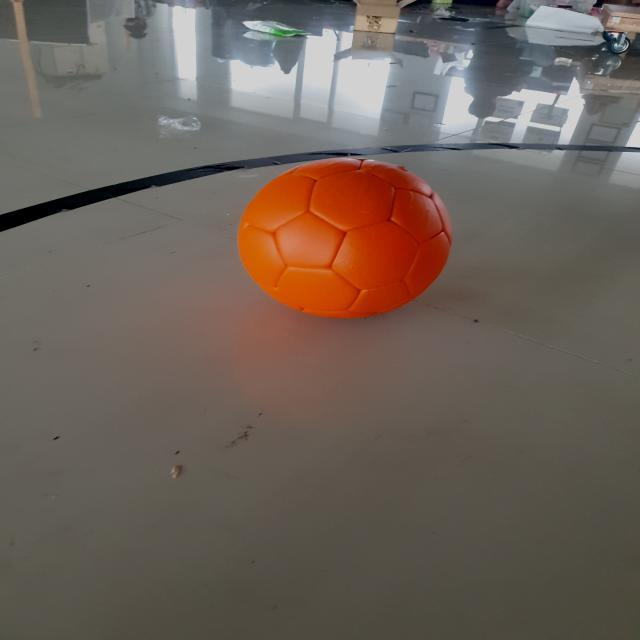bola: (194, 132, 498, 355)
